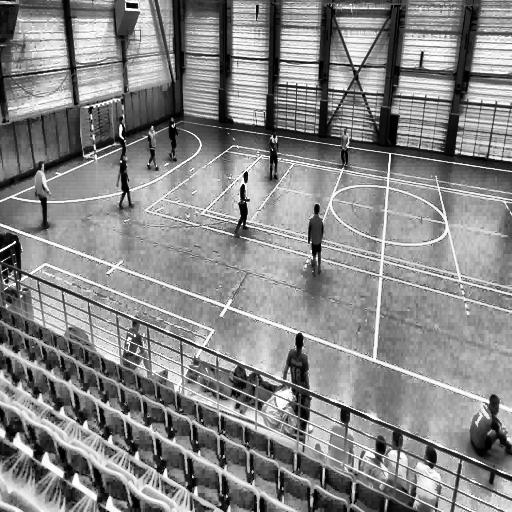ball: (310, 257, 315, 266)
player: (306, 201, 324, 279), (33, 160, 51, 230), (235, 170, 251, 238), (117, 150, 134, 210), (267, 127, 281, 182), (146, 122, 159, 173), (116, 114, 128, 166), (168, 115, 179, 163), (339, 126, 351, 170)
